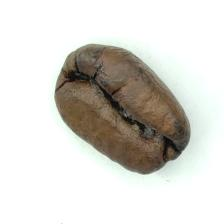NG: (117, 99, 160, 147)
